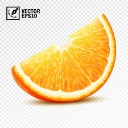orange: (9, 13, 117, 103)
